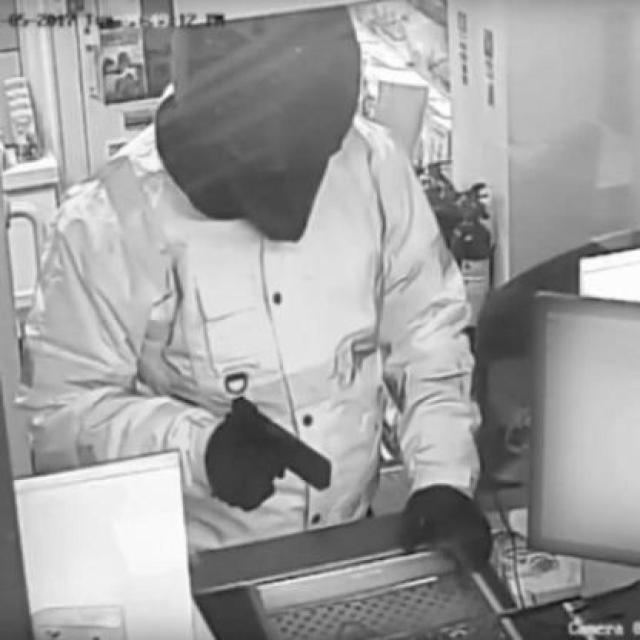weapon: (224, 396, 333, 513)
